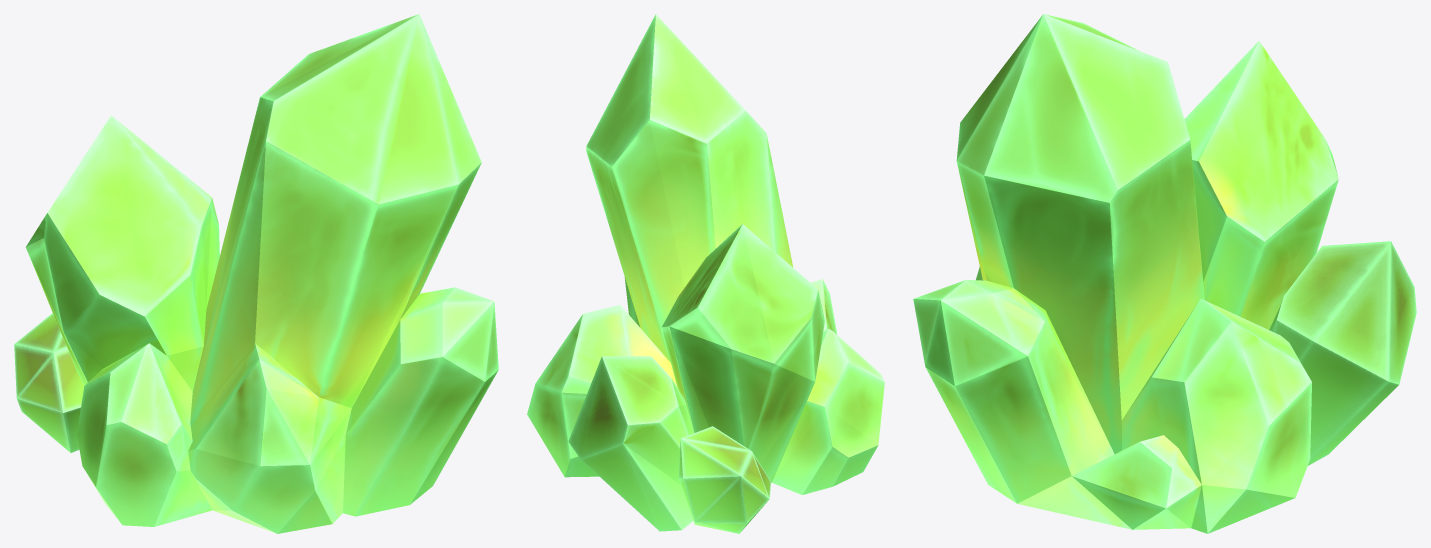
The model's file is crystal_chunk_001.fbx.
3 views of the same model, side by side, from view 1: azimuth 30°, elevation 25°; view 2: azimuth 150°, elevation 25°; view 3: azimuth 270°, elevation 25° (orthographic). The views are drawn at different scales.
Parts seen in each view (by area): view 1: crystal_chunk.001; view 2: crystal_chunk.001; view 3: crystal_chunk.001.
Boxes of the visible parts, bbox=[...] form: crystal_chunk.001: bbox=[14, 14, 498, 533]; crystal_chunk.001: bbox=[527, 14, 884, 533]; crystal_chunk.001: bbox=[913, 14, 1416, 533].
Bounding box in the file's own units: 13.05 × 15.91 × 14.14.
